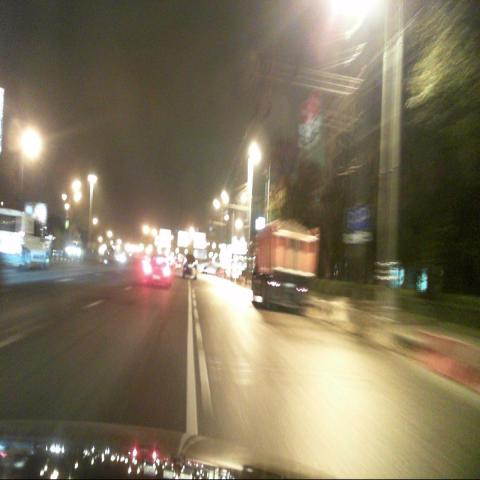6_4: (356, 204, 370, 231)
